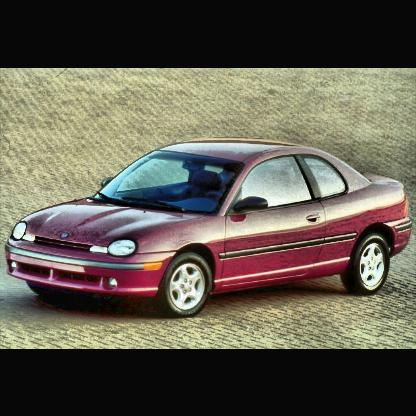Plymouth Neon Coupe 1999: (5, 139, 412, 318)
